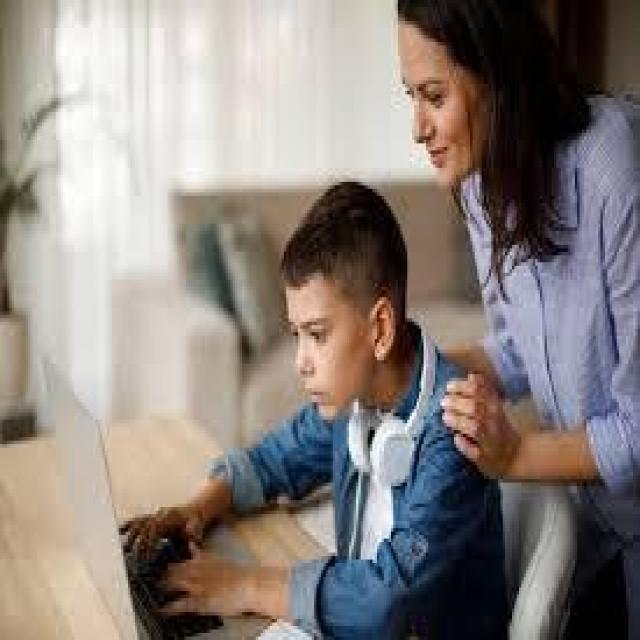person: (207, 147, 477, 636), (391, 0, 638, 472)
